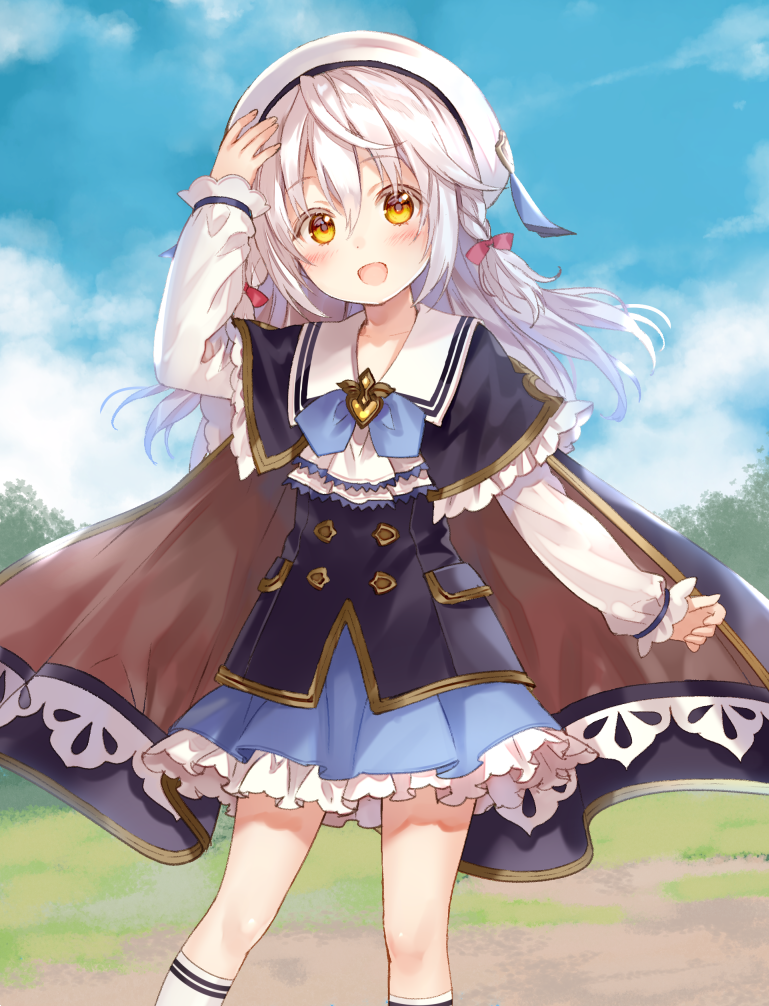纸片人正脸: (199, 24, 508, 321)
